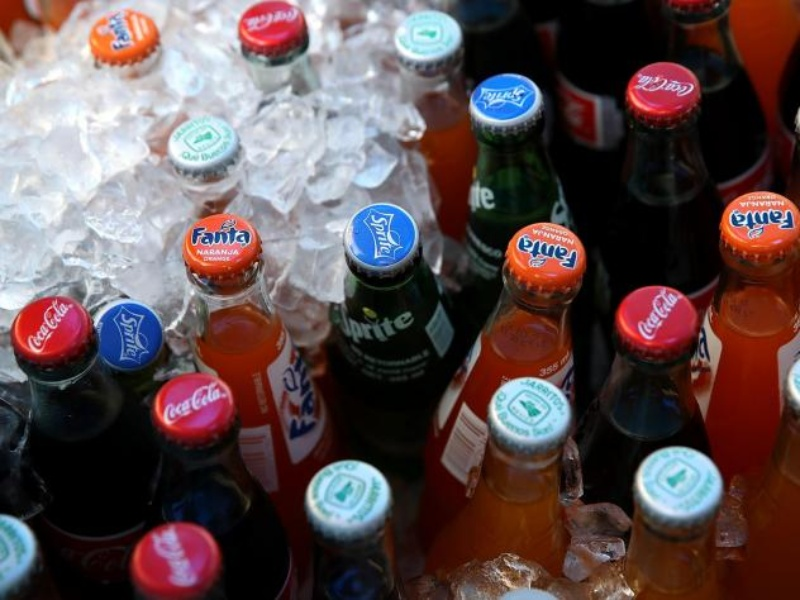Glass bottle: (155, 196, 353, 499), (424, 191, 595, 509), (400, 341, 604, 586), (301, 190, 472, 462), (582, 57, 731, 363), (14, 273, 154, 560), (605, 264, 753, 533), (421, 49, 585, 283)
